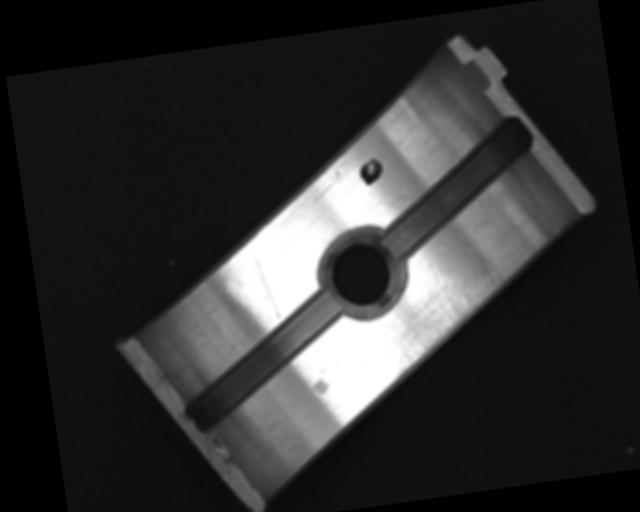blot: (356, 155, 385, 188)
bruise: (309, 376, 331, 397)
gap: (170, 286, 355, 435), (365, 115, 546, 261)
hole: (310, 222, 413, 325)
nick: (253, 255, 280, 320)
scratch: (379, 260, 529, 381)
